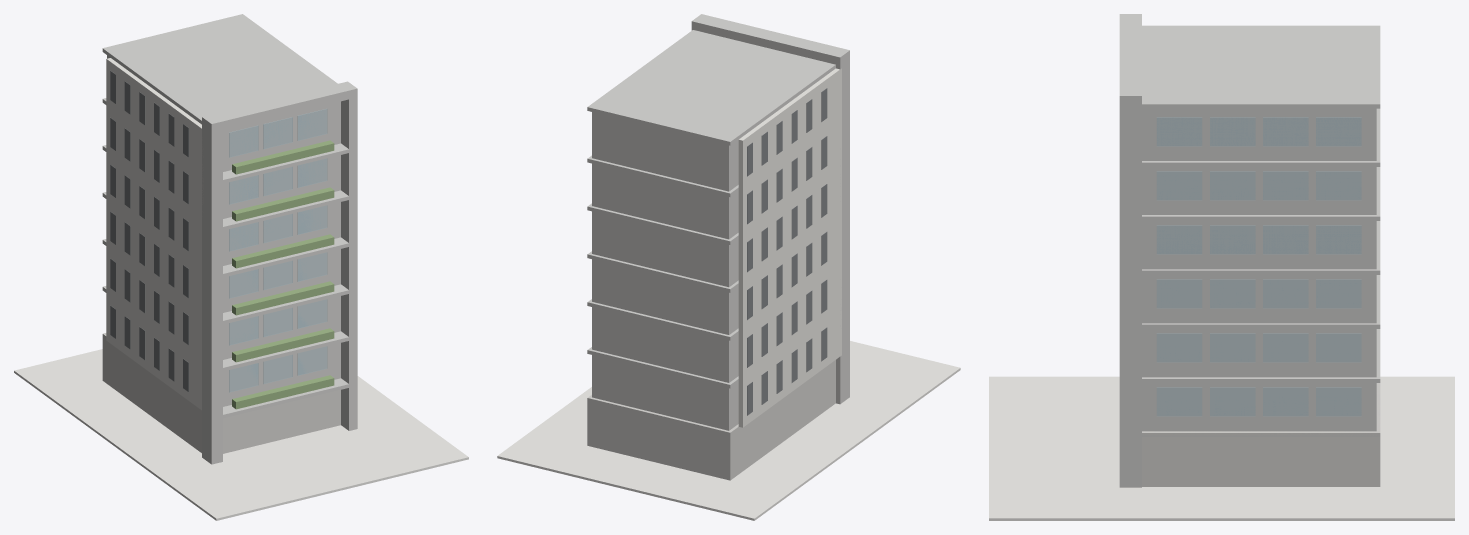
The model's file is six-storied-residential.glb.
3 renders of one model, left to right at view 1: azimuth 30°, elevation 25°; view 2: azimuth 150°, elevation 25°; view 3: azimuth 270°, elevation 25°, orthographic. The views are drawn at different scales.
Visible parts, largest first — view 1: roof-white, site-site, floor-0-grey, floor-6-white, floor-3-white, floor-2-white, floor-4-white, floor-5-white, floor-1-white, floor-6-offwhite, floor-5-offwhite, floor-3-offwhite (+21 smaller); view 2: site-site, roof-white, floor-0-grey, floor-6-white, floor-2-white, floor-3-white, floor-5-white, floor-4-white, floor-1-white, floor-6-offwhite, floor-5-offwhite, floor-1-offwhite (+9 smaller); view 3: site-site, roof-white, floor-6-white, floor-0-grey, floor-2-white, floor-3-white, floor-4-white, floor-5-white, floor-1-white, floor-1-glass, floor-2-glass, floor-3-glass (+3 smaller).
Part boxes in pixels (x1,y1,x2,y2): roof-white: [102, 14, 357, 464]; site-site: [14, 349, 468, 520]; floor-0-grey: [102, 333, 340, 453]; floor-6-white: [102, 55, 355, 185]; floor-3-white: [102, 239, 355, 326]; floor-2-white: [102, 286, 348, 373]; floor-4-white: [102, 192, 348, 279]; floor-5-white: [102, 145, 348, 232]; floor-1-white: [103, 333, 348, 420]; floor-6-offwhite: [106, 58, 202, 175]; floor-5-offwhite: [106, 106, 203, 222]; floor-3-offwhite: [106, 200, 201, 316]; site-site: [497, 341, 960, 520]; roof-white: [587, 14, 849, 404]; floor-0-grey: [587, 360, 835, 480]; floor-6-white: [587, 112, 738, 197]; floor-2-white: [587, 307, 738, 388]; floor-3-white: [587, 259, 738, 340]; floor-5-white: [587, 163, 738, 244]; floor-4-white: [587, 211, 738, 292]; floor-1-white: [587, 355, 738, 435]; floor-6-offwhite: [738, 68, 841, 188]; floor-5-offwhite: [738, 116, 841, 236]; floor-1-offwhite: [738, 307, 841, 427]; site-site: [989, 376, 1454, 520]; roof-white: [1119, 14, 1380, 487]; floor-6-white: [1142, 108, 1380, 166]; floor-0-grey: [1142, 383, 1380, 486]; floor-2-white: [1142, 329, 1380, 382]; floor-3-white: [1142, 275, 1380, 328]; floor-4-white: [1142, 221, 1380, 274]; floor-5-white: [1142, 167, 1380, 220]; floor-1-white: [1142, 383, 1380, 436]; floor-1-glass: [1156, 387, 1361, 416]; floor-2-glass: [1156, 333, 1361, 362]; floor-3-glass: [1156, 279, 1361, 308].
Bounding box in the file's own units: 18 × 23.35 × 25.
